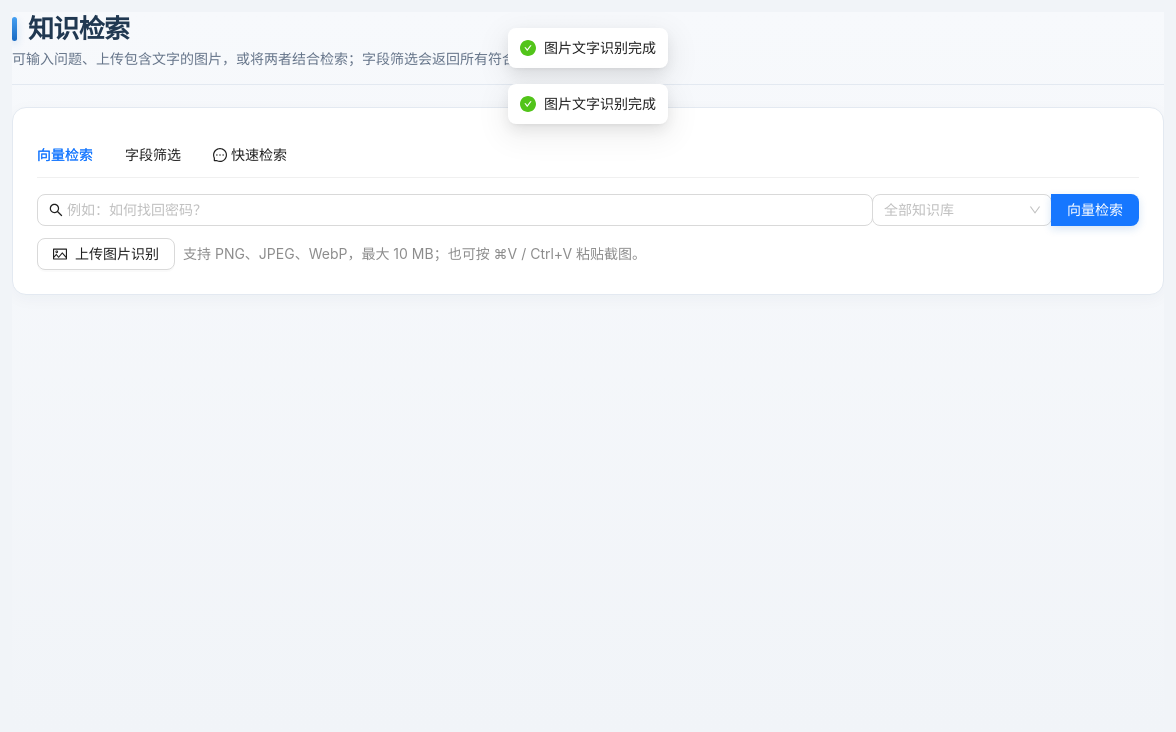
Test case: SearchPage OCR › shows global supplemental material after knowledge results without a helpful action
The width and height of the screenshot is (1176, 732).
Step 1. Type "登录失败" into the field with placeholder "例如：如何找回密码？" → point(464, 210), box [67,199,861,221]
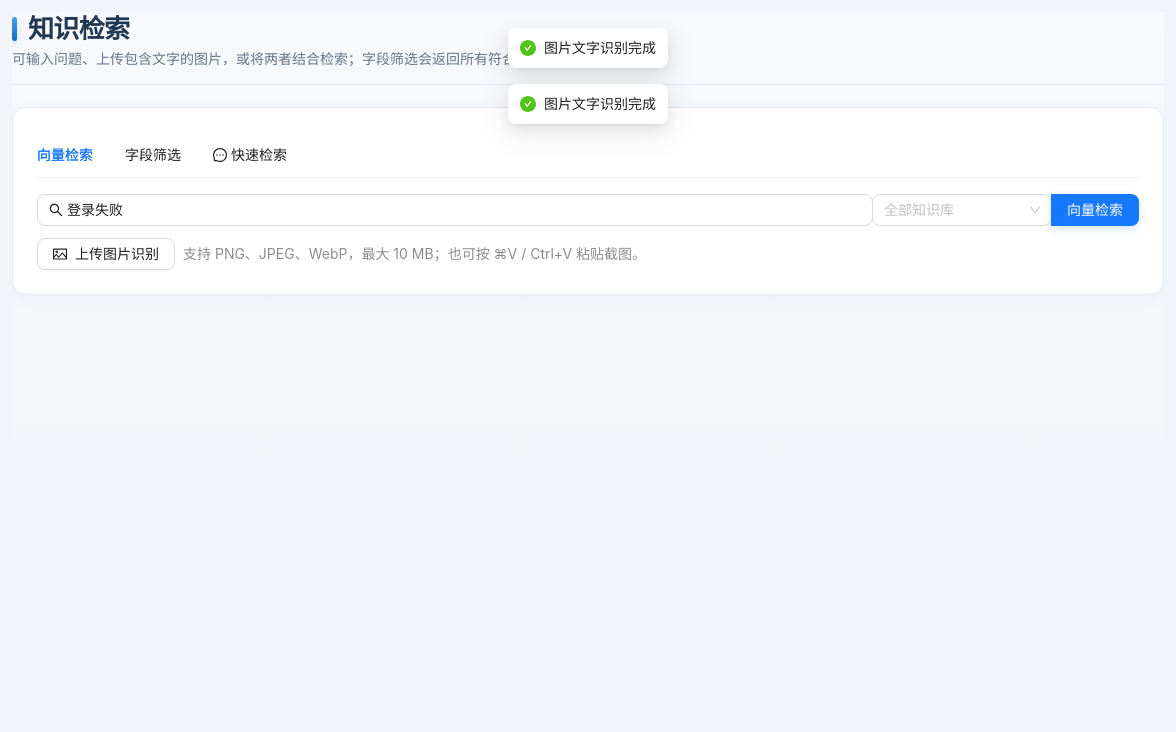
Step 2. Click the button "向量检索" → point(1095, 210), box [1051,194,1139,226]
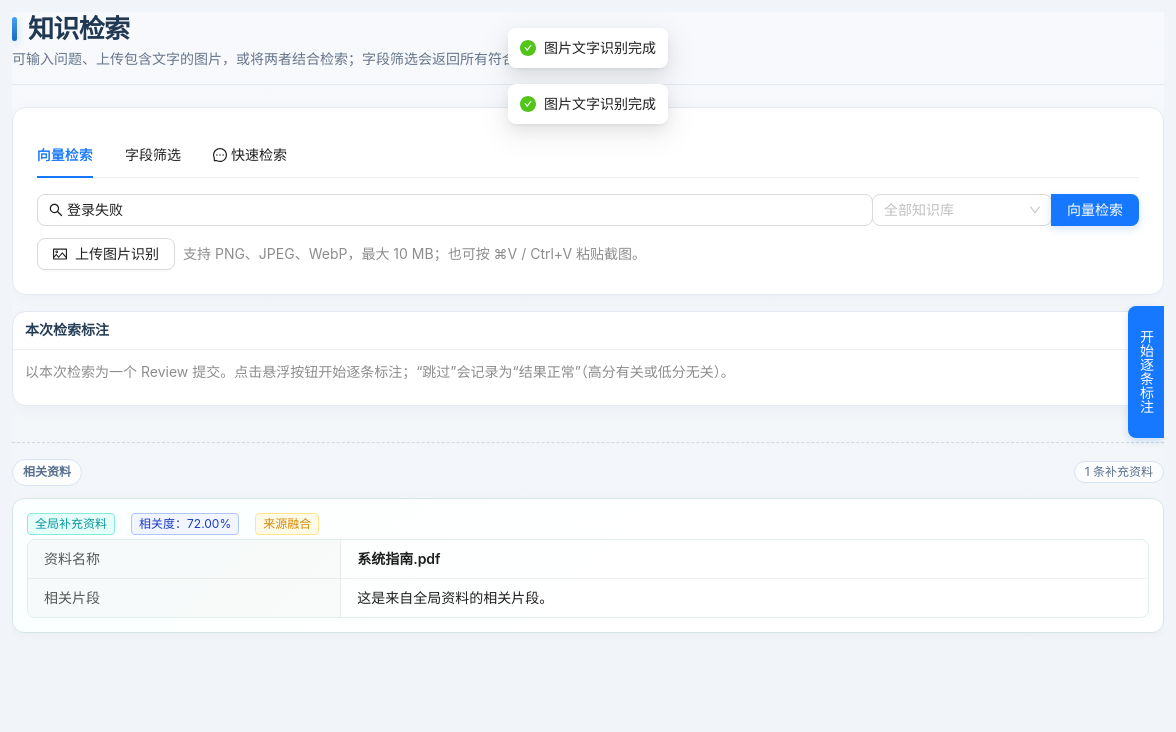
Check: the text "相关资料" is shown, box [23,464,71,479]
Check: the text "系统指南.pdf" is shown, box [357,550,441,567]
Check: the text "这是来自全局资料的相关片段。" is shown, box [357,589,553,606]
